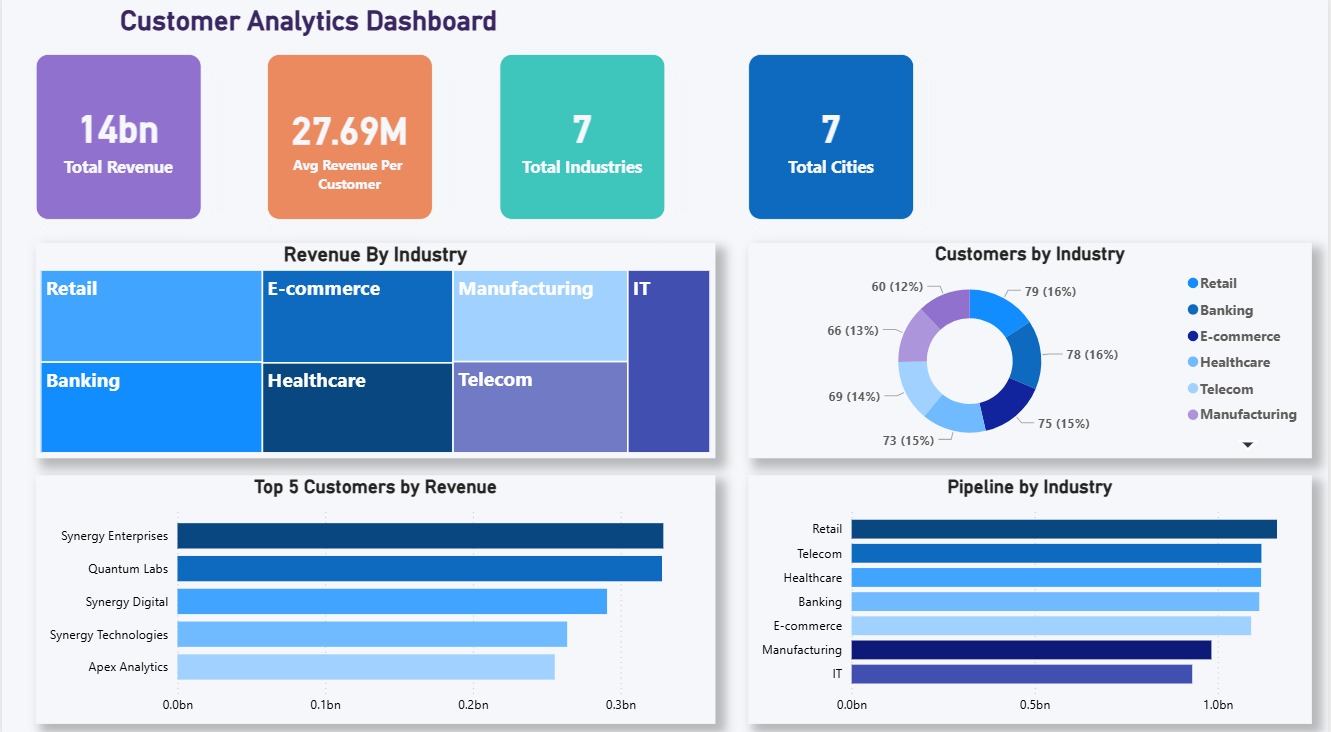

The page's visual inventory and layout, read from the dashboard file:
{"tool":"powerbi","page":{"name":"Customer Analytics","canvas":[1280,720],"ordinal":1},"visuals":[{"type":"card","fields":{"Values":["KPI_Table.Total Revenue"]},"box":[32,58,160,160],"z":0},{"type":"card","fields":{"Values":["KPI_Table.Avg Revenue Per Customer"]},"box":[256,58,160,160],"z":1000},{"type":"card","fields":{"Values":["KPI_Table.Total Industries"]},"box":[480,58,160,160],"z":2000},{"type":"card","fields":{"Values":["KPI_Table.Total Cities"]},"box":[720,58,160,160],"z":3000},{"type":"treemap","title":"Revenue By Industry","fields":{"Group":["customers.industry"],"Values":["Sum(customers.annual_revenue)"]},"box":[32,240,656,208],"z":4000},{"type":"donutChart","title":"Customers by Industry","fields":{"Category":["customers.industry"],"Y":["CountNonNull(customers.customer_id)"]},"box":[720,240,544,208],"z":5000},{"type":"clusteredBarChart","title":"Top 5 Customers by Revenue","fields":{"Category":["customers.customer_name"],"Y":["Sum(customers.annual_revenue)"]},"box":[32,464,656,240],"z":6000},{"type":"clusteredBarChart","title":"Pipeline by Industry","fields":{"Category":["customers.industry"],"Y":["Sum(opportunities.deal_value)"]},"box":[720,464,544,240],"z":7000},{"type":"card","fields":{"Values":["KPI_Table.II"]},"box":[48,0,496,48],"z":8000}]}

Visuals, with their boxes in screenshot pixels (x1, y1, x2, y2), scaled from the page's 1280x720 canvas onto the 1331x732 screenshot:
card - KPI_Table.Total Revenue: BBox(33, 59, 200, 222)
card - KPI_Table.Avg Revenue Per Customer: BBox(266, 59, 433, 222)
card - KPI_Table.Total Industries: BBox(499, 59, 666, 222)
card - KPI_Table.Total Cities: BBox(749, 59, 915, 222)
"Revenue By Industry" treemap: BBox(33, 244, 715, 455)
"Customers by Industry" donutChart: BBox(749, 244, 1314, 455)
"Top 5 Customers by Revenue" clusteredBarChart: BBox(33, 472, 715, 716)
"Pipeline by Industry" clusteredBarChart: BBox(749, 472, 1314, 716)
card - KPI_Table.II: BBox(50, 0, 566, 49)
